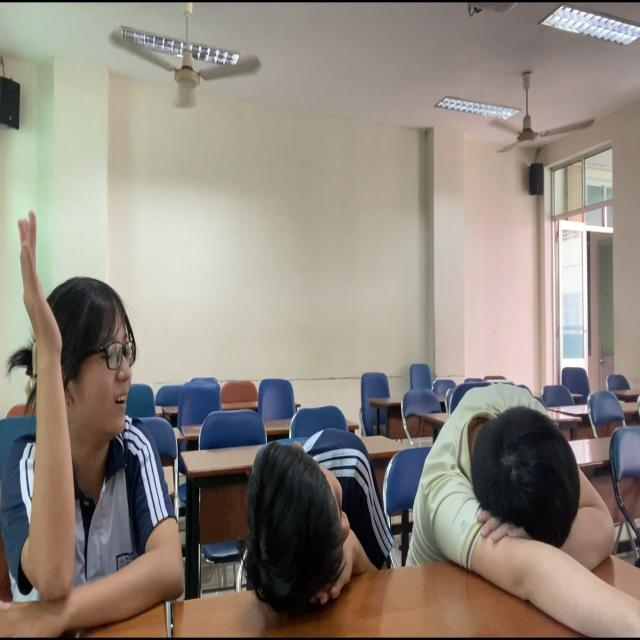raise_hand: (1, 208, 146, 640)
sleep: (403, 384, 640, 640), (227, 384, 409, 640)
